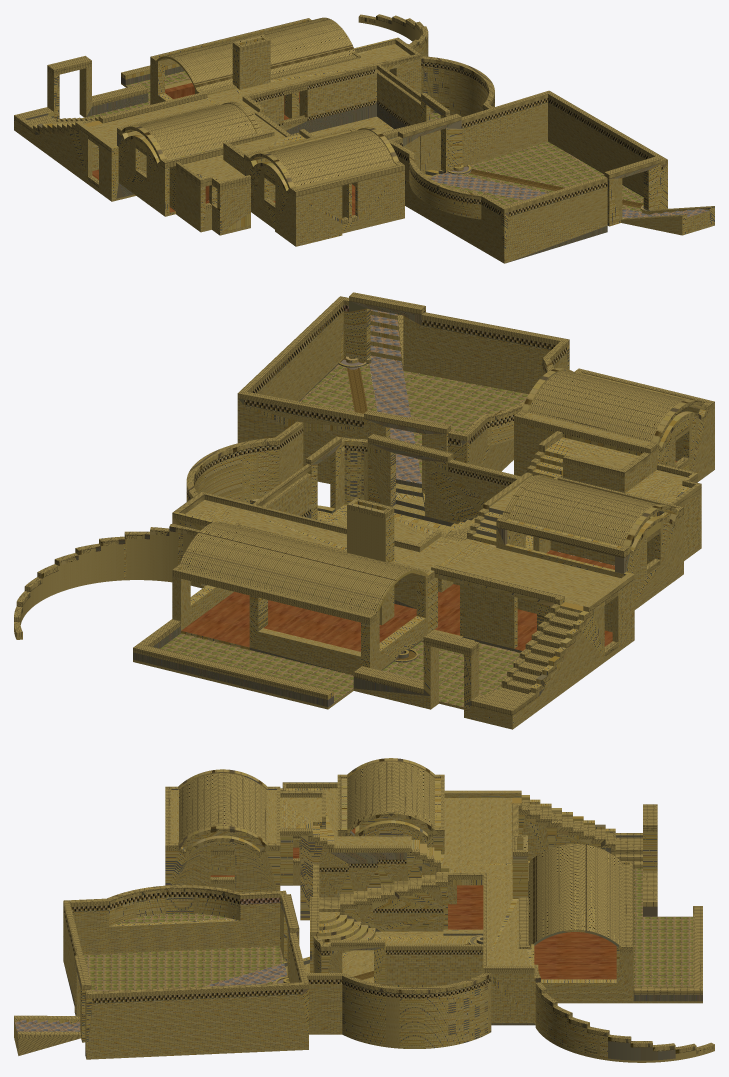
The model's file is muros.glb.
3 renders of one model, top to bottom at view 1: azimuth 30°, elevation 25°; view 2: azimuth 150°, elevation 25°; view 3: azimuth 270°, elevation 25°, orthographic. The views are drawn at different scales.
Parts seen in each view (by area): view 1: 13739876; view 2: 13739876; view 3: 13739876.
Boxes of the visible parts, left/top/right/bottom form: 13739876: left=14, top=14, right=714, bottom=263; 13739876: left=14, top=292, right=714, bottom=729; 13739876: left=14, top=758, right=714, bottom=1062.
Bounding box in the file's own units: 22.41 × 5.51 × 29.74.
14 materials, 14 textured.
